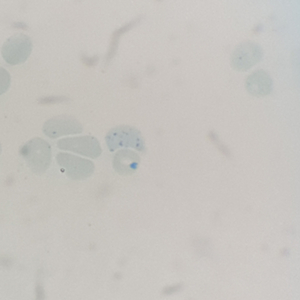aggregate reticulocyte: (104, 123, 146, 154)
erythrocyte: (54, 150, 98, 183), (111, 147, 146, 178)
punctate reticulocyte: (18, 136, 54, 178), (55, 133, 106, 161), (1, 30, 35, 67), (42, 112, 86, 140), (229, 39, 266, 72), (244, 70, 277, 100)
